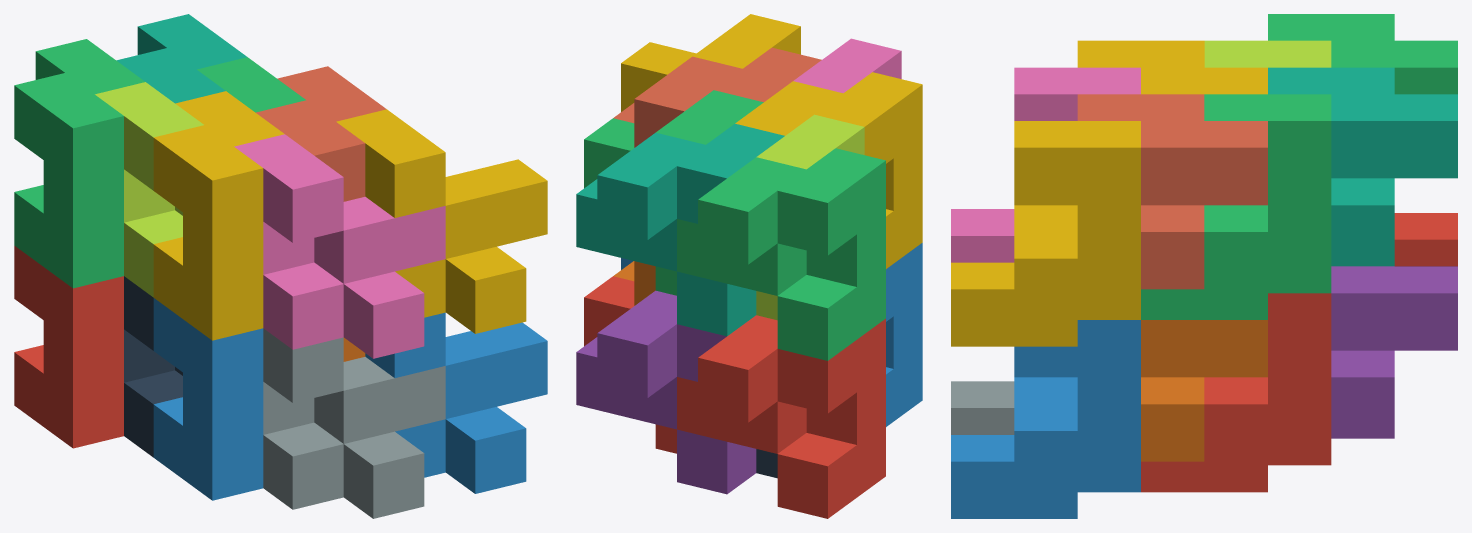
Rendered from tiling.obj.
3 views of the same model, side by side, from view 1: azimuth 30°, elevation 25°; view 2: azimuth 150°, elevation 25°; view 3: azimuth 270°, elevation 25° (orthographic). The views are drawn at different scales.
Parts seen in each view (by area): view 1: copy_2_domain_4, copy_2_domain_2, copy_1_domain_3, copy_2_domain_8, copy_1_domain_4, copy_2_domain_6, copy_1_domain_2, copy_1_domain_1, copy_2_domain_3, copy_1_domain_8, copy_1_domain_7, copy_2_domain_1 (+1 smaller); view 2: copy_1_domain_3, copy_1_domain_1, copy_1_domain_7, copy_1_domain_5, copy_1_domain_4, copy_1_domain_8, copy_1_domain_2, copy_2_domain_8, copy_2_domain_7, copy_2_domain_3, copy_2_domain_4, copy_2_domain_5 (+2 smaller); view 3: copy_2_domain_8, copy_2_domain_6, copy_2_domain_7, copy_2_domain_5, copy_1_domain_7, copy_1_domain_8, copy_1_domain_5, copy_1_domain_6, copy_2_domain_4, copy_1_domain_3, copy_1_domain_4, copy_2_domain_3 (+2 smaller).
Boxes of the visible parts, x1,y1,x2,y2 form: copy_2_domain_4: (234, 134, 445, 358); copy_2_domain_2: (263, 328, 445, 518); copy_1_domain_3: (14, 39, 144, 288); copy_2_domain_8: (336, 109, 547, 333); copy_1_domain_4: (153, 91, 284, 340); copy_2_domain_6: (365, 312, 547, 493); copy_1_domain_2: (153, 298, 263, 500); copy_1_domain_1: (14, 246, 123, 448); copy_2_domain_3: (95, 82, 203, 297); copy_1_domain_8: (256, 66, 386, 201); copy_1_domain_7: (116, 14, 246, 103); copy_2_domain_1: (124, 276, 182, 457); copy_1_domain_3: (677, 148, 885, 360); copy_1_domain_1: (677, 315, 885, 518); copy_1_domain_7: (576, 123, 784, 336); copy_1_domain_5: (576, 290, 756, 494); copy_1_domain_4: (735, 72, 922, 268); copy_1_domain_8: (613, 47, 821, 147); copy_1_domain_2: (886, 243, 922, 426); copy_2_domain_8: (621, 14, 800, 111); copy_2_domain_7: (584, 90, 763, 295); copy_2_domain_3: (756, 114, 864, 320); copy_2_domain_4: (793, 38, 901, 93); copy_2_domain_5: (584, 276, 676, 453); copy_2_domain_8: (951, 121, 1140, 346); copy_2_domain_6: (951, 320, 1140, 518); copy_2_domain_7: (1141, 94, 1331, 319); copy_2_domain_5: (1141, 293, 1331, 492); copy_1_domain_7: (1268, 67, 1457, 266); copy_1_domain_8: (1077, 94, 1267, 289); copy_1_domain_5: (1331, 266, 1457, 438); copy_1_domain_6: (1141, 320, 1267, 461); copy_2_domain_4: (951, 67, 1140, 262); copy_1_domain_3: (1268, 14, 1457, 94); copy_1_domain_4: (1077, 40, 1267, 94); copy_2_domain_3: (1204, 40, 1331, 67).
Size of the model in its own units: 7 by 6 by 8.
